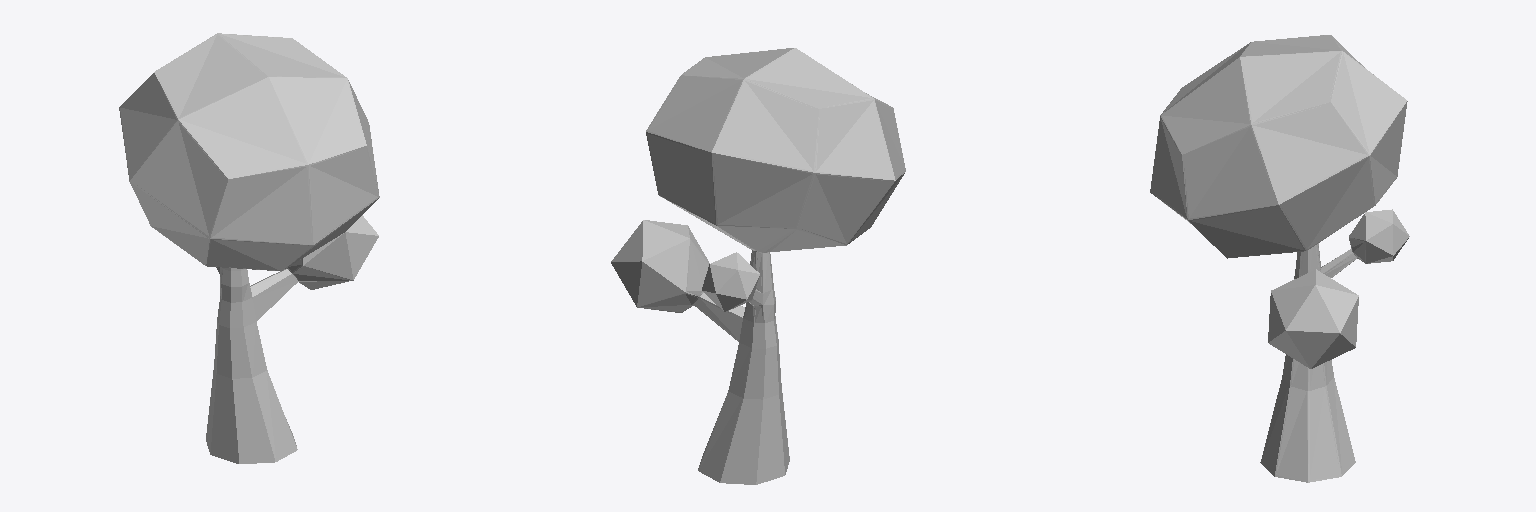
File: largeTreeFinal.obj
The picture shows the model from 3 angles: view 1: azimuth 30°, elevation 25°; view 2: azimuth 150°, elevation 25°; view 3: azimuth 270°, elevation 25°; orthographic projection.
Parts seen in each view (by area): view 1: pPlatonic8; view 2: pPlatonic8; view 3: pPlatonic8.
Boxes of the visible parts, x1=… form: pPlatonic8: x1=119, y1=33, x2=379, y2=463; pPlatonic8: x1=611, y1=48, x2=905, y2=484; pPlatonic8: x1=1150, y1=35, x2=1409, y2=482.
Bounding box in the file's own units: 7.71 × 11.69 × 6.82.